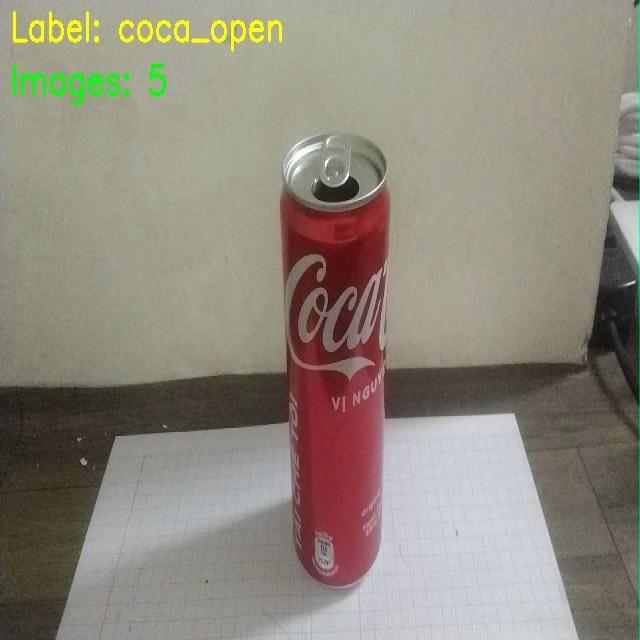Coca_open: (258, 121, 430, 601)
